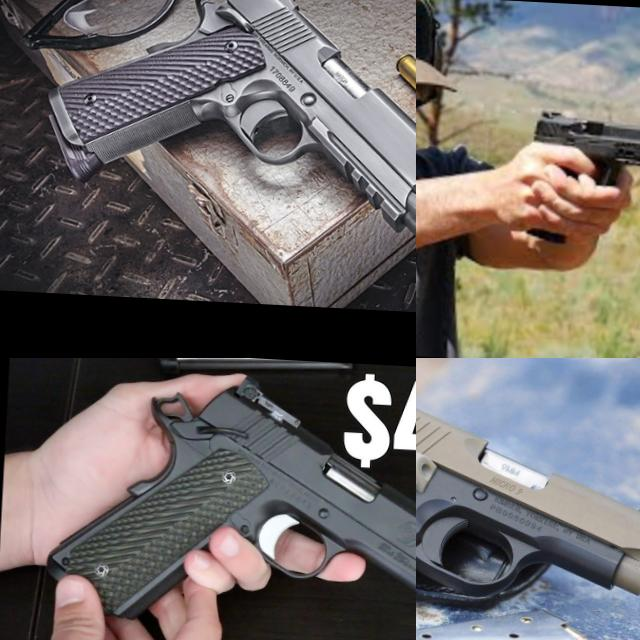handgun: (35, 0, 416, 289), (41, 362, 416, 640), (416, 366, 640, 640), (529, 108, 640, 193)
